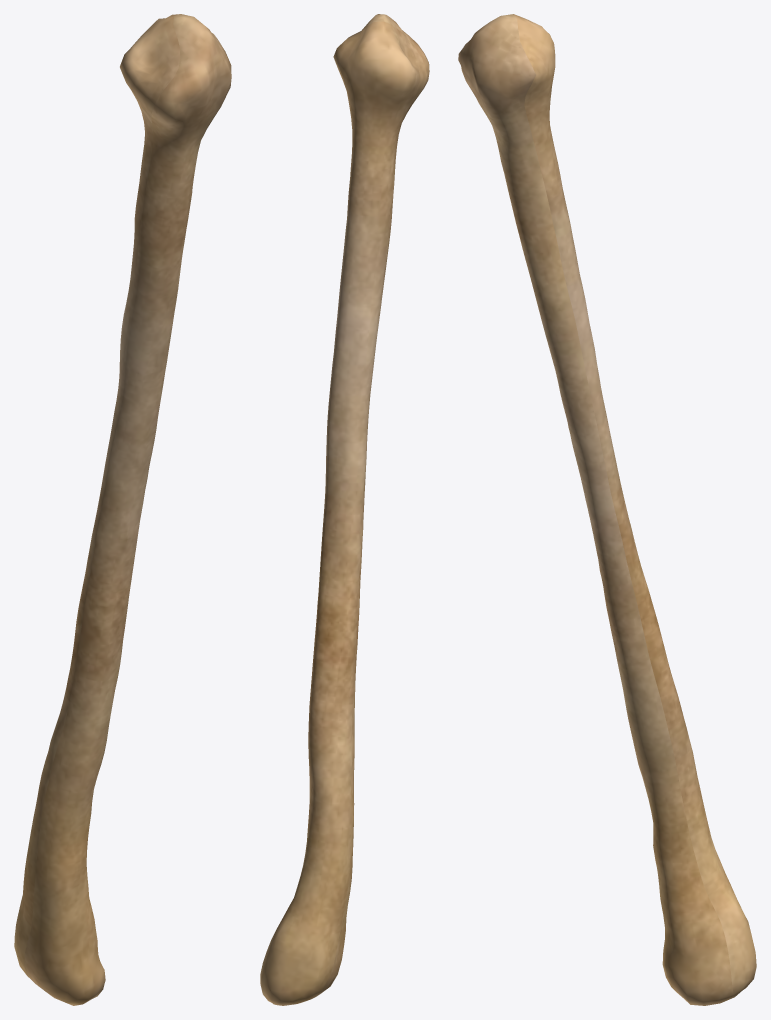
The model's file is medium_bone.glb.
The picture shows the model from 3 angles, left to right: view 1: azimuth 30°, elevation 25°; view 2: azimuth 150°, elevation 25°; view 3: azimuth 270°, elevation 25°; orthographic projection. The views are drawn at different scales.
Visible parts, largest first — view 1: Hueso medio 4; view 2: Hueso medio 4; view 3: Hueso medio 4.
Boxes of the visible parts, box(x1,y1,x2,y2) form: Hueso medio 4: box(14, 14, 231, 1005); Hueso medio 4: box(260, 14, 429, 1005); Hueso medio 4: box(458, 14, 756, 1005).
Bounding box in the file's own units: 0.149 × 1.52 × 0.4174.
1 material, 1 textured.
